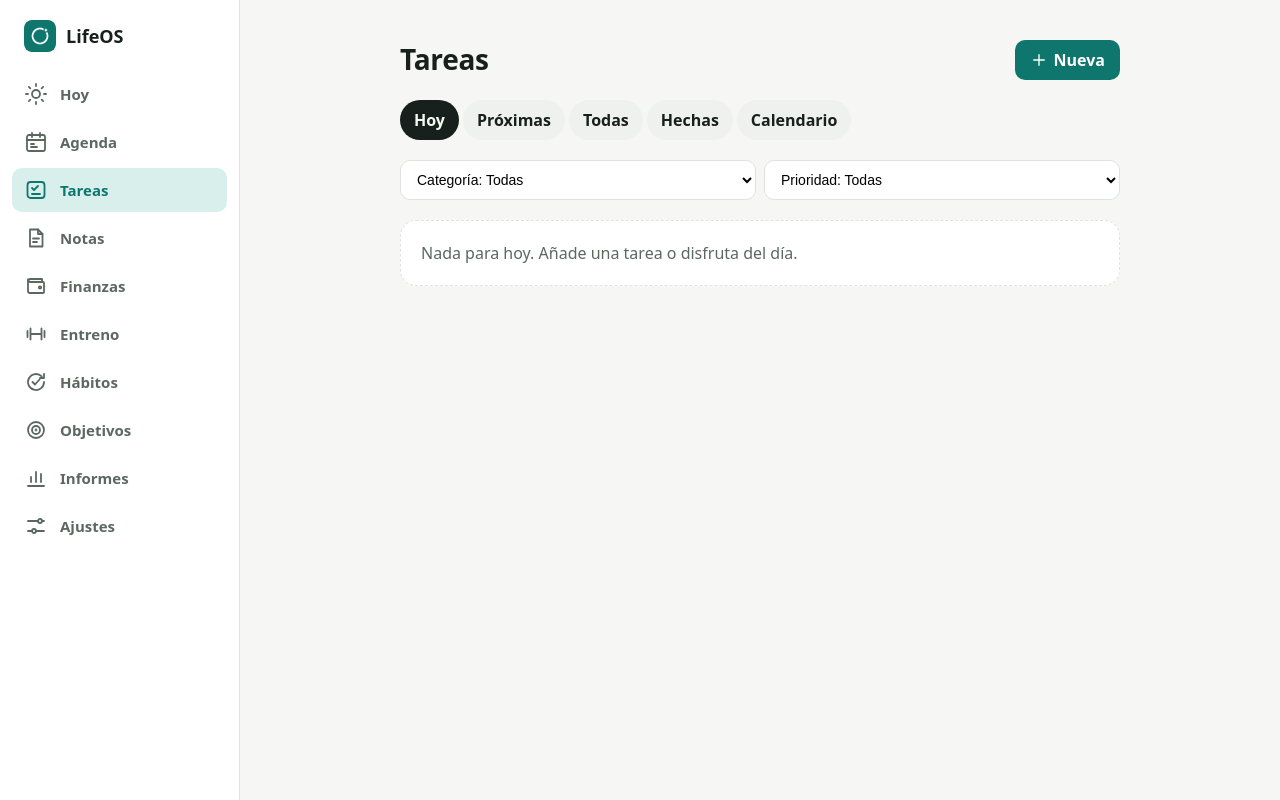
Test: editor de tareas › crea una tarea para hoy por defecto
Step 1. Click the button "Nueva" → (1067, 60), box [1015, 40, 1120, 80]
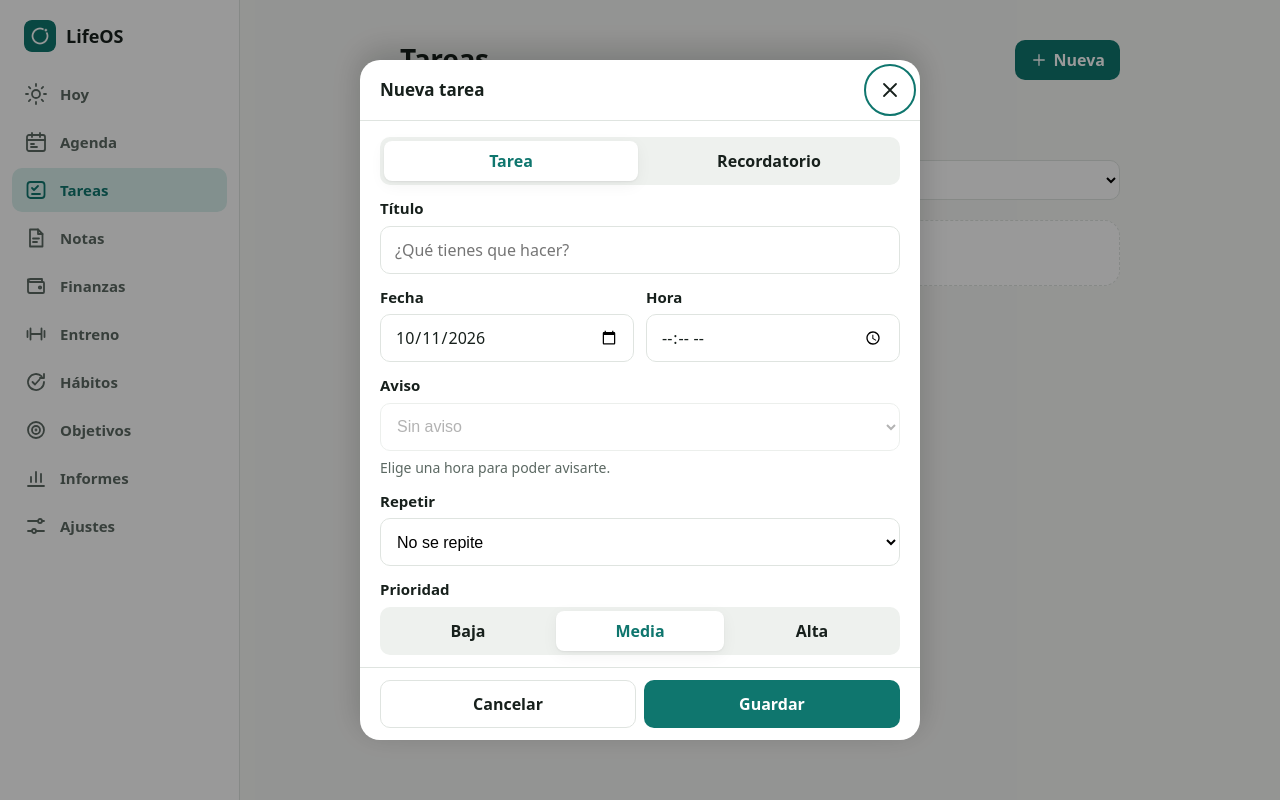
Step 2. Type "  Regar las plantas " into the field labelled "Título" → (640, 250), box [380, 226, 900, 274]
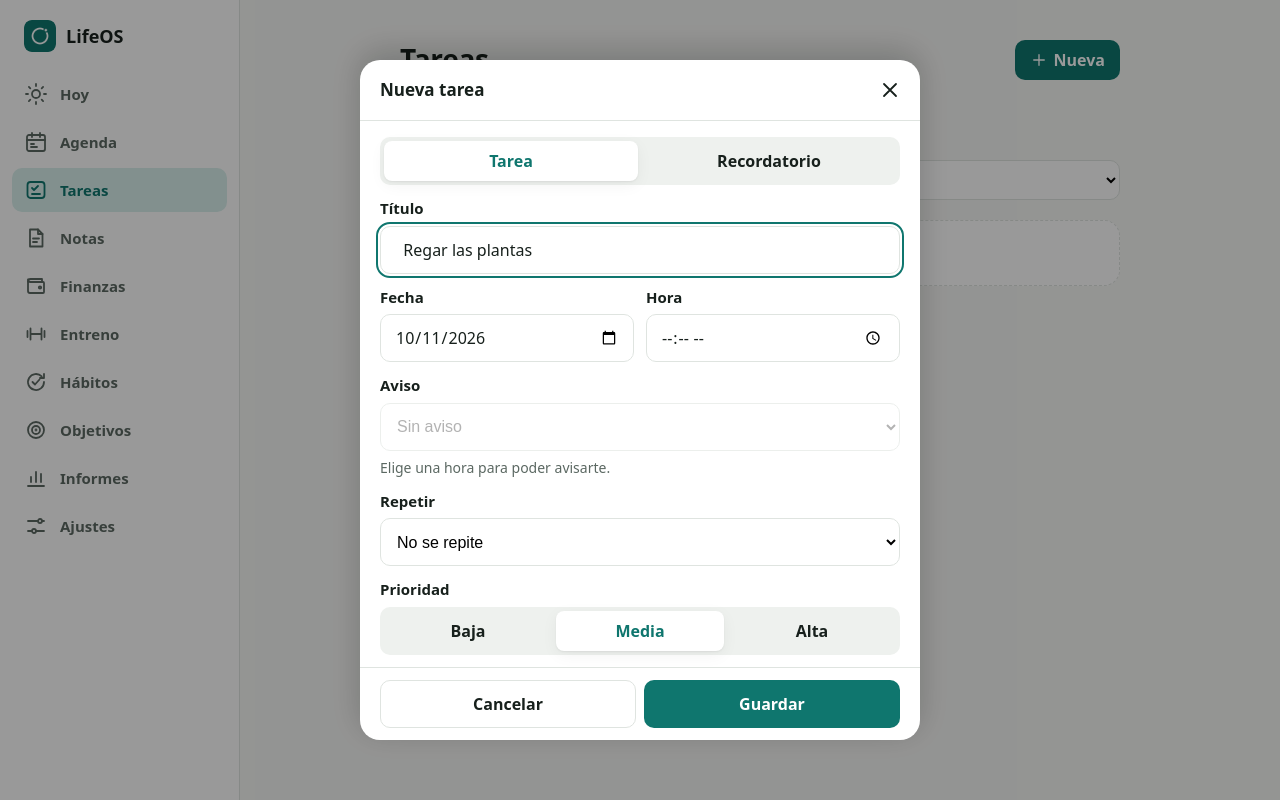
Step 3. Click the radio button labelled "Alta" → (812, 630), box [728, 610, 896, 650]
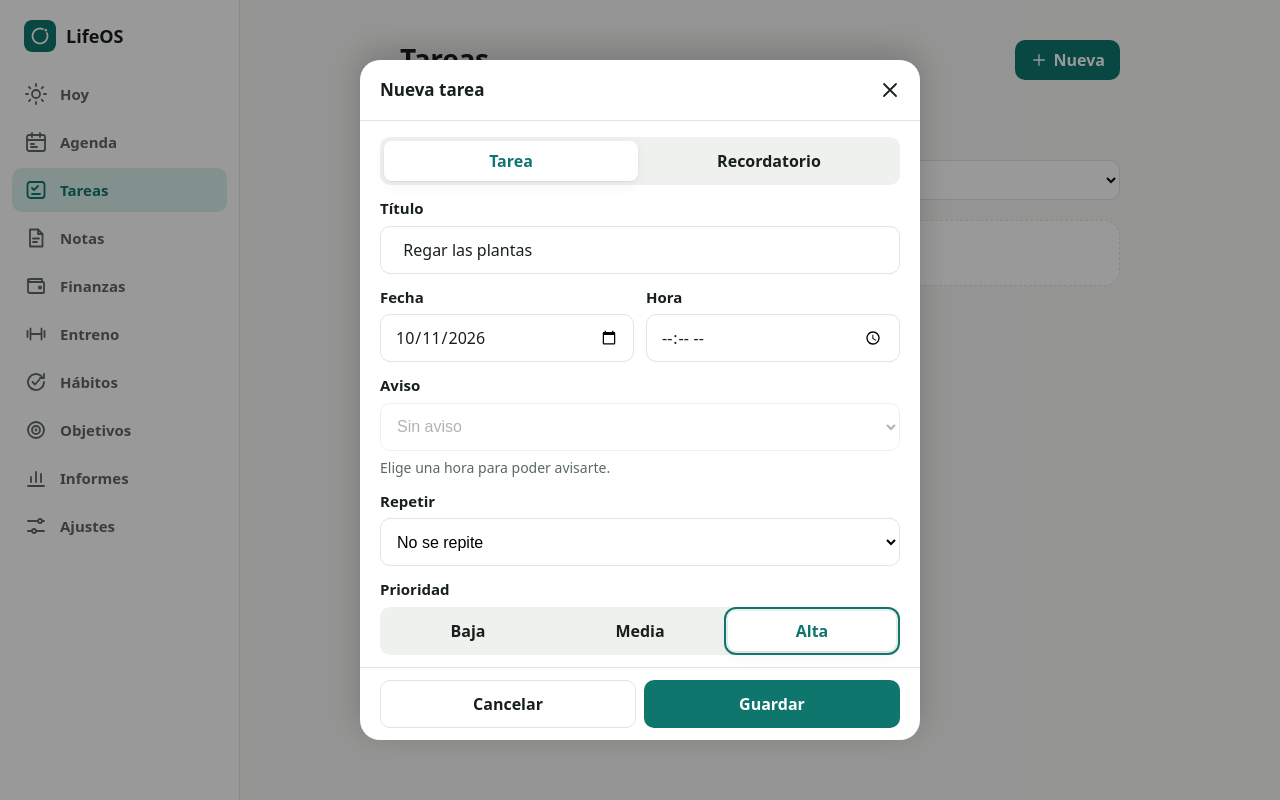
Step 4. Click the button "Guardar" → (772, 704), box [644, 680, 900, 728]
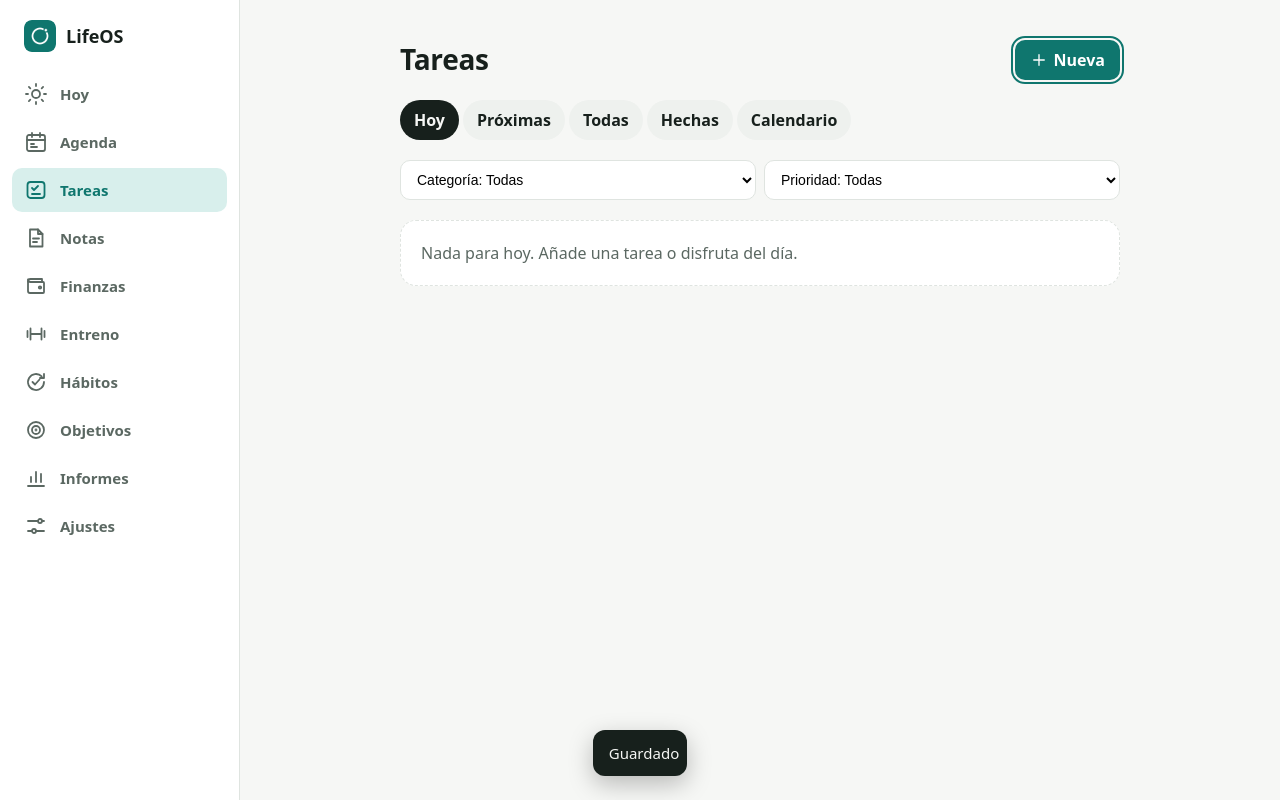
Expected: the dialog is gone
Expected: the text "Guardado" is shown, [609, 742, 679, 764]
